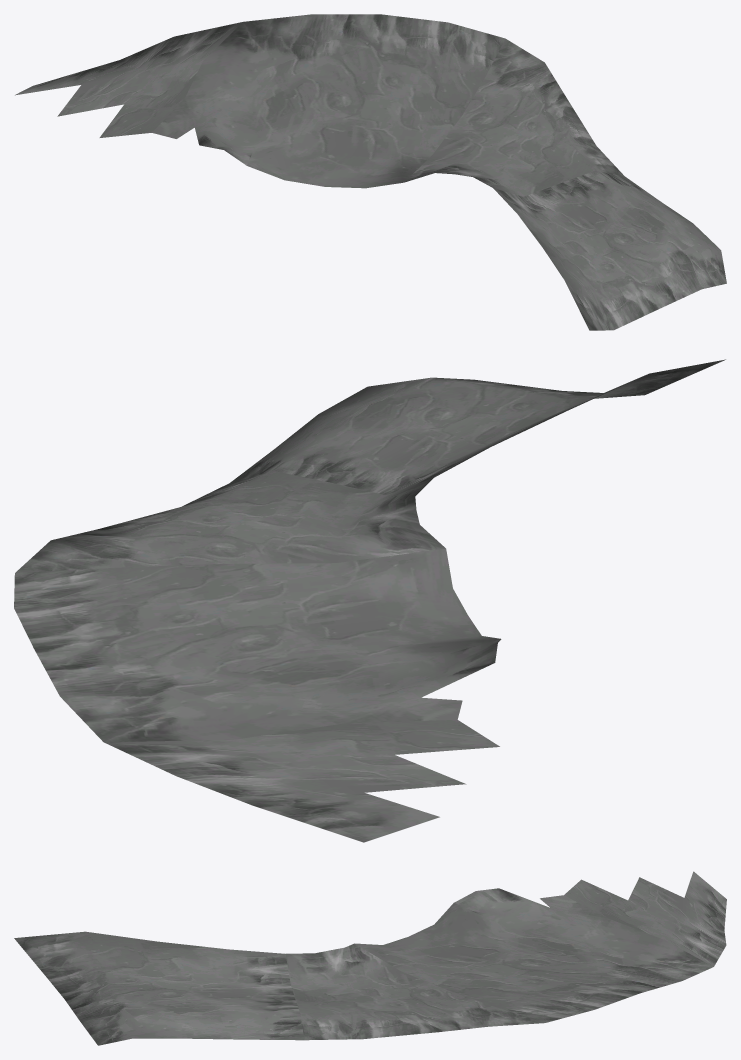
The model's file is SWORDLIGHT20_PS-AREA03_143.fbx.
3 views of the same model, one above another, from view 1: azimuth 30°, elevation 25°; view 2: azimuth 150°, elevation 25°; view 3: azimuth 270°, elevation 25° (orthographic). The views are drawn at different scales.
Parts seen in each view (by area): view 1: SWORDLIGHT20_PS-AREA03_143; view 2: SWORDLIGHT20_PS-AREA03_143; view 3: SWORDLIGHT20_PS-AREA03_143.
Part boxes in pixels (x1,y1,x2,y2): SWORDLIGHT20_PS-AREA03_143: [15, 14, 726, 330]; SWORDLIGHT20_PS-AREA03_143: [14, 359, 725, 842]; SWORDLIGHT20_PS-AREA03_143: [14, 871, 726, 1045].
Size of the model in its own units: 112774 by 13085 by 196830.
Materials: 3 (3 with a texture image).
